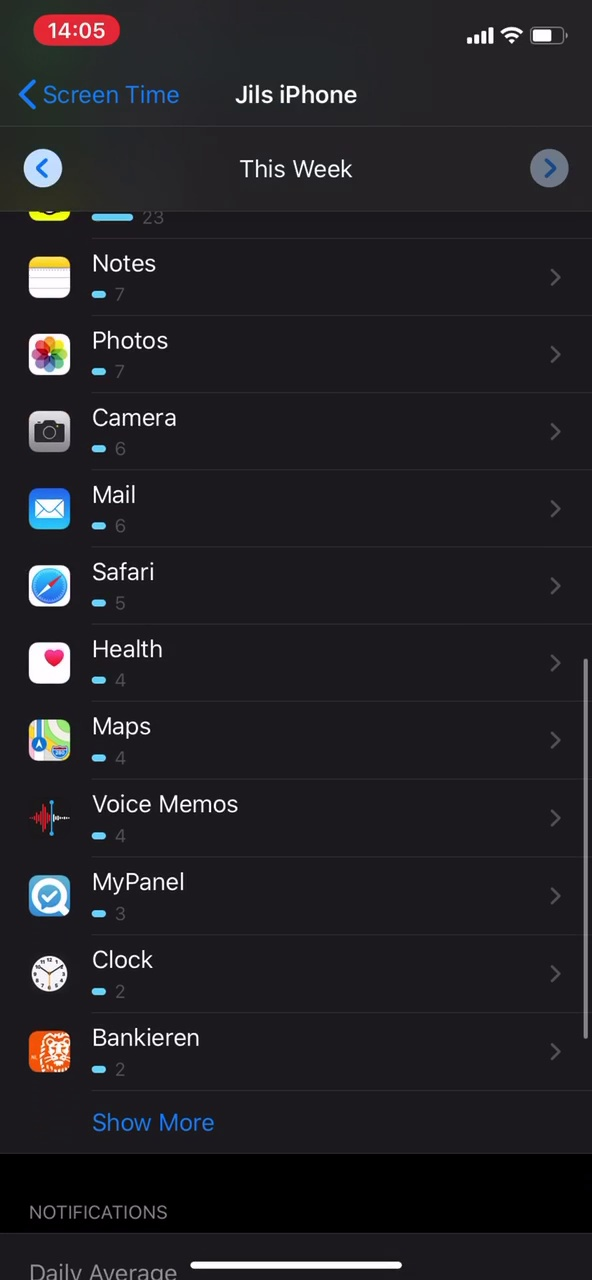pick_app: (12, 791, 268, 853), (18, 244, 226, 310), (29, 394, 223, 464), (15, 1025, 245, 1080), (14, 636, 228, 694), (15, 941, 217, 1000), (25, 317, 204, 383), (9, 714, 207, 772), (9, 866, 198, 921), (32, 477, 175, 546), (18, 561, 193, 617)
week: (229, 148, 358, 183)
